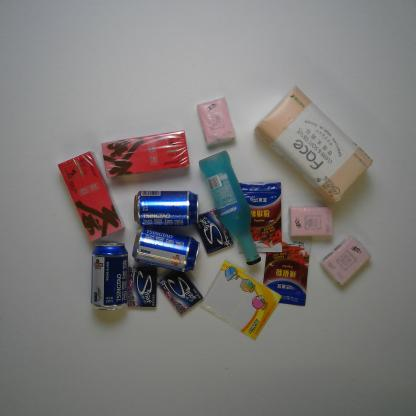Alcohol: (198, 147, 260, 265), (130, 224, 201, 273), (89, 237, 130, 315), (131, 186, 203, 226)
Gum: (156, 265, 203, 316), (193, 204, 235, 256), (125, 261, 158, 309)
Instant Drink: (57, 149, 124, 242), (99, 128, 192, 179)
Seasoner: (260, 225, 312, 306), (233, 180, 284, 255)
Stationery: (198, 258, 283, 339)
Tissue: (254, 84, 374, 206), (318, 232, 372, 287), (194, 97, 236, 147), (286, 203, 334, 242)
